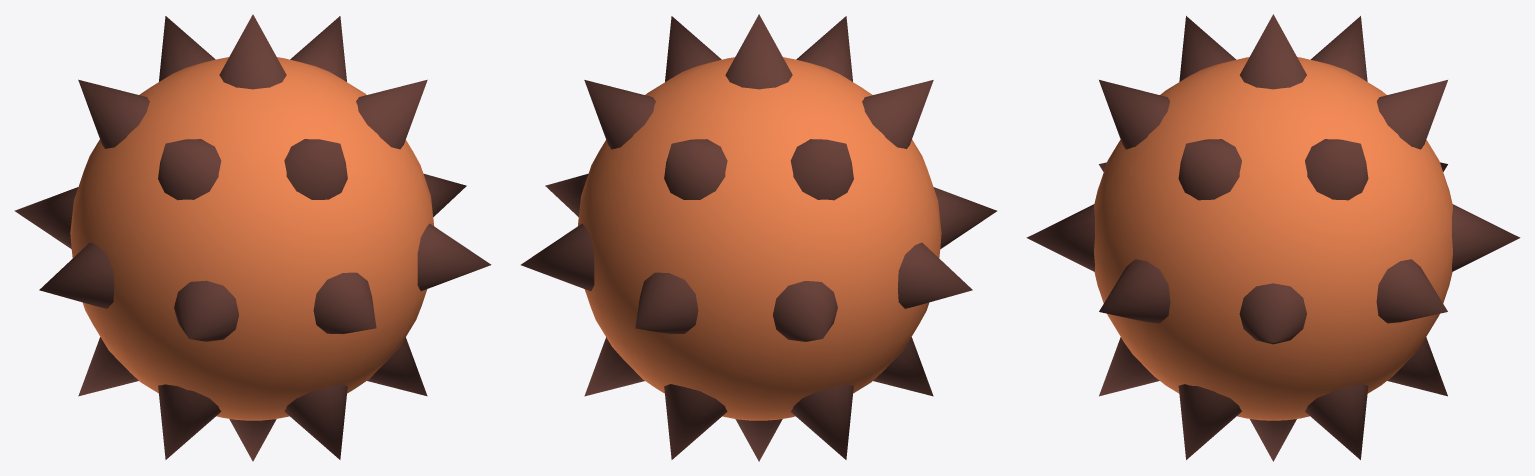
The model's file is spike.fbx.
3 views of the same model, side by side, from view 1: azimuth 30°, elevation 25°; view 2: azimuth 150°, elevation 25°; view 3: azimuth 270°, elevation 25° (orthographic).
Parts seen in each view (by area): view 1: Cone; view 2: Cone; view 3: Cone.
Boxes of the visible parts, left/top/right/bottom form: Cone: left=14, top=14, right=491, bottom=461; Cone: left=521, top=14, right=996, bottom=461; Cone: left=1026, top=14, right=1520, bottom=461.
Bounding box in the file's own units: 270 × 270 × 270.
